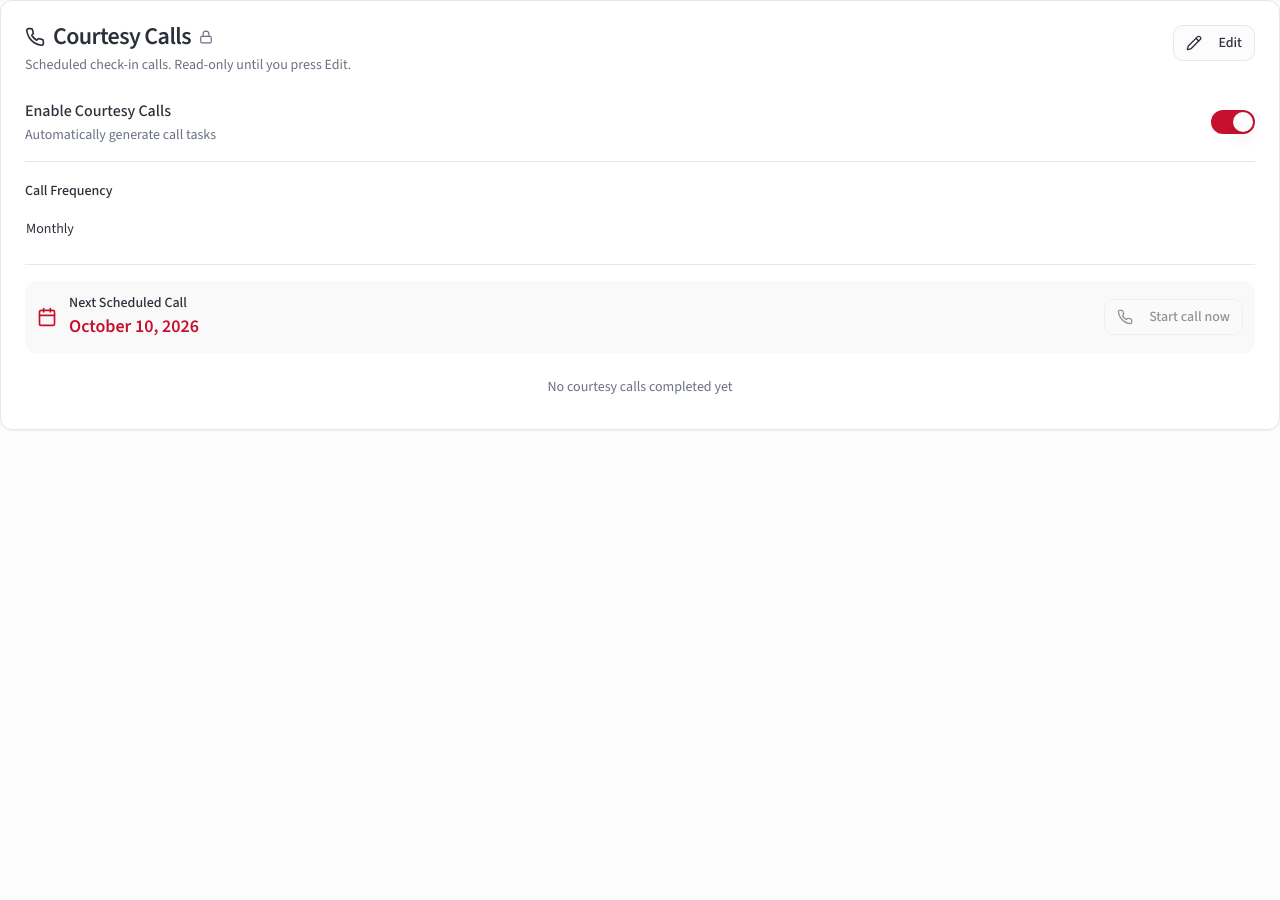
courtesy calls › Cancel puts the switch back and asks first
Expected: the element with test id "courtesy-card-fields" is shown, [25,99,1255,405]
Click the button with test id "courtesy-card-edit" at [1214, 43], box [1173,25,1255,61]
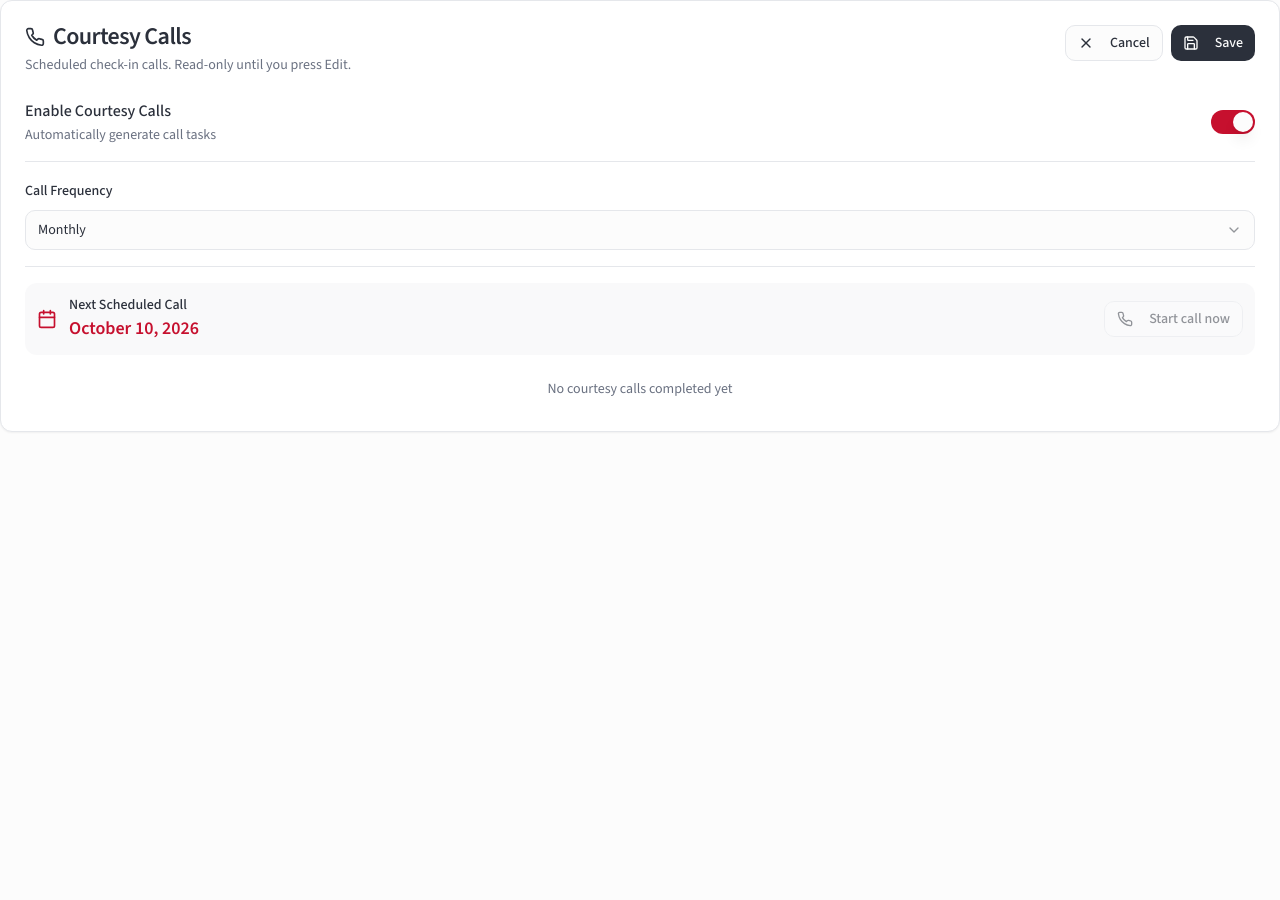
Click the switch named "Enable Courtesy Calls" at [1233, 122], box [1211,110,1255,134]
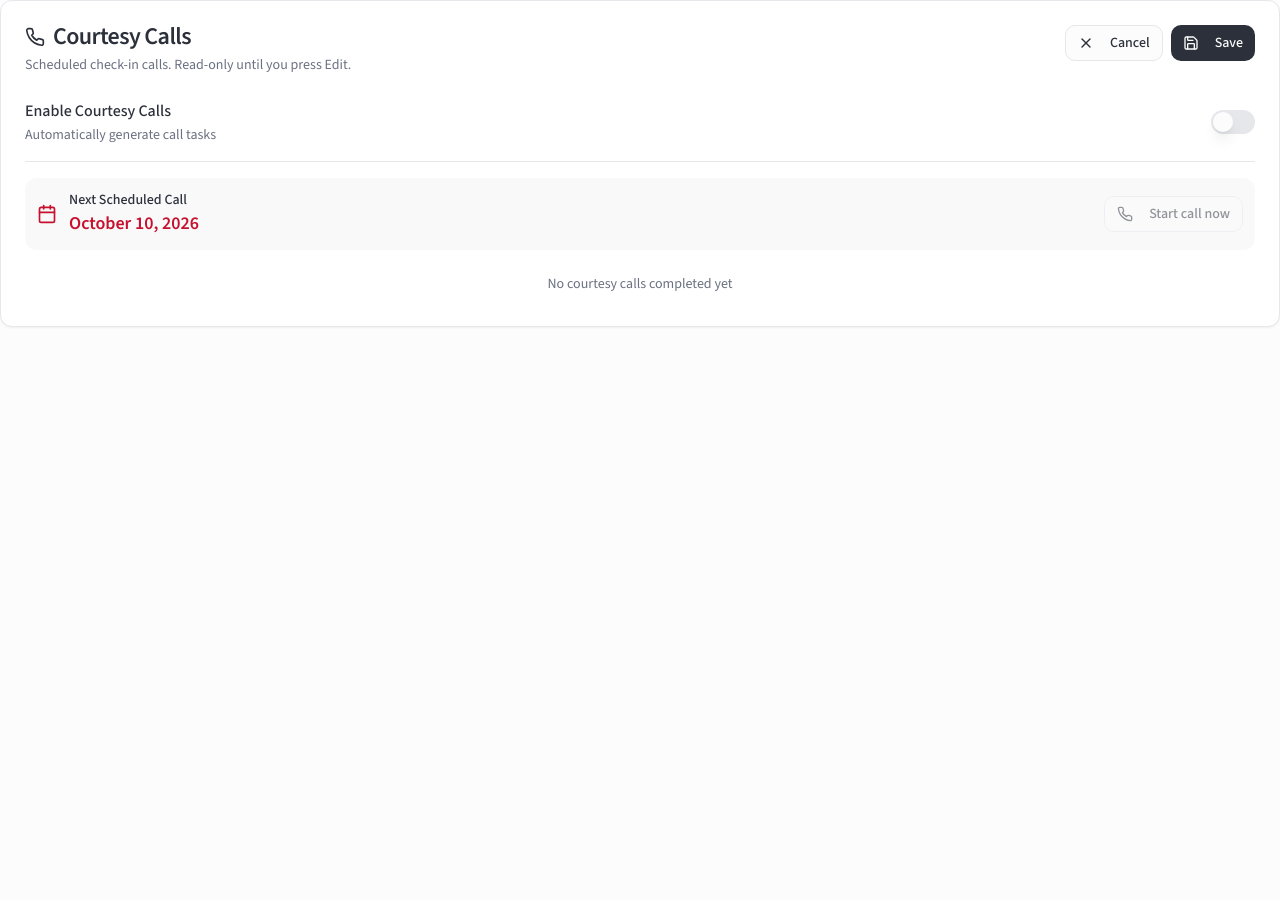
Click the button with test id "courtesy-card-cancel" at [1114, 43], box [1065,25,1163,61]
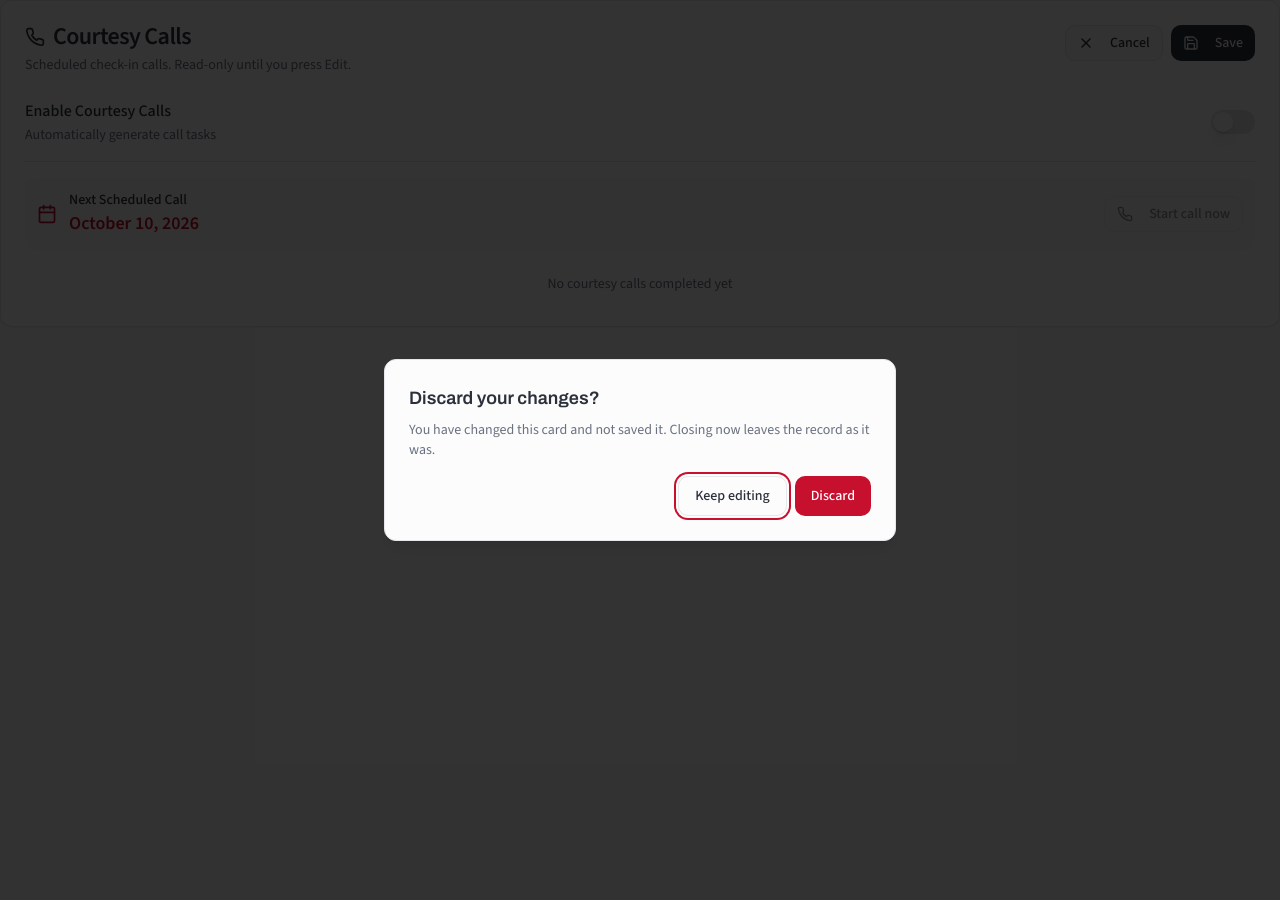
Result: the button with test id "courtesy-card-discard" is shown
Click the button with test id "courtesy-card-discard" at [833, 496], box [795,476,871,516]
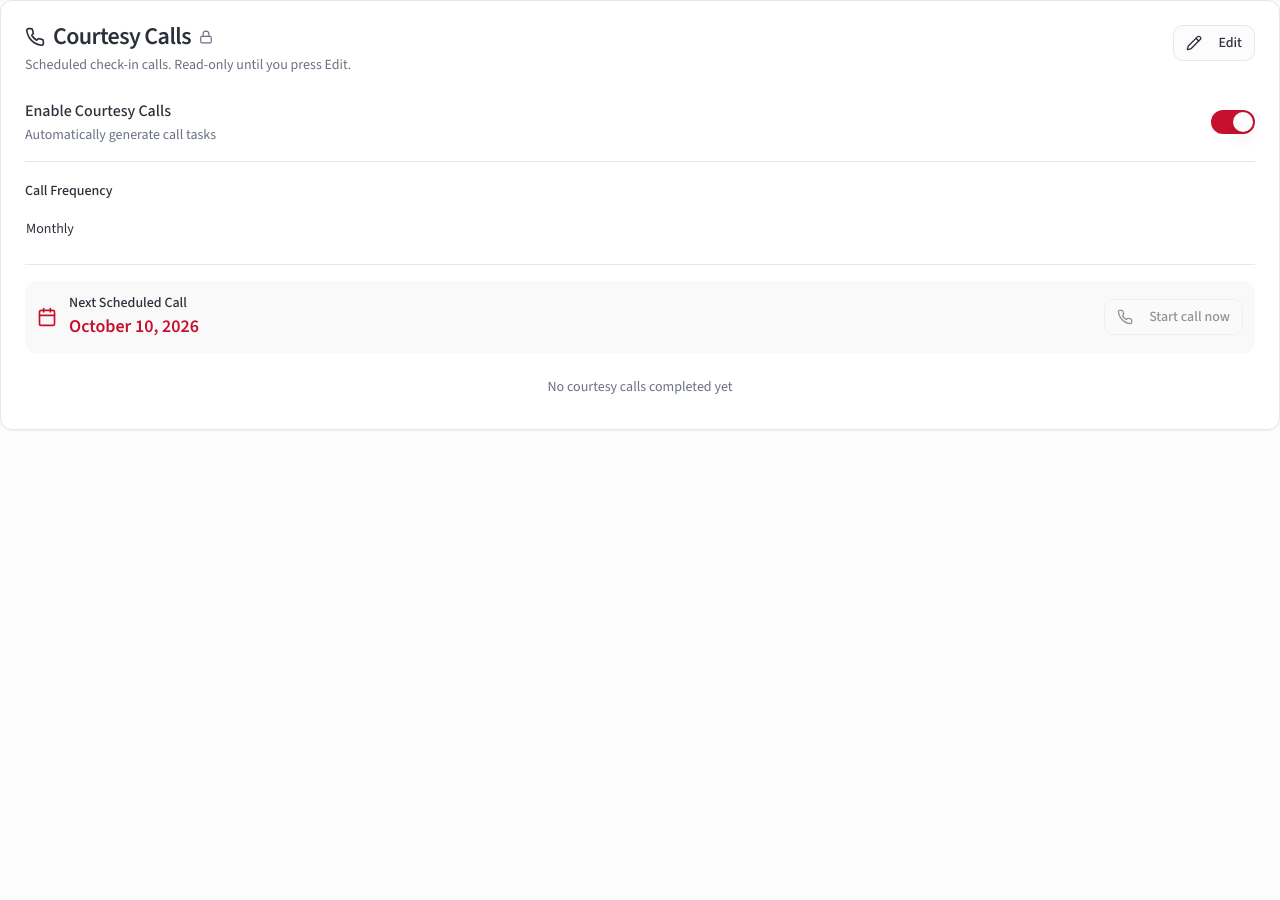
Result: the element with test id "courtesy-card-fields" is disabled at [25,99,1255,405]
